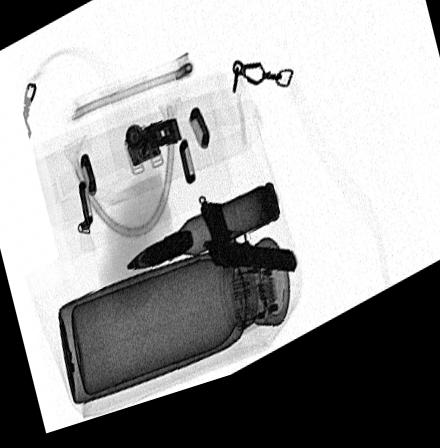Bullet: (124, 196, 278, 275)
Gun: (199, 212, 297, 290)
